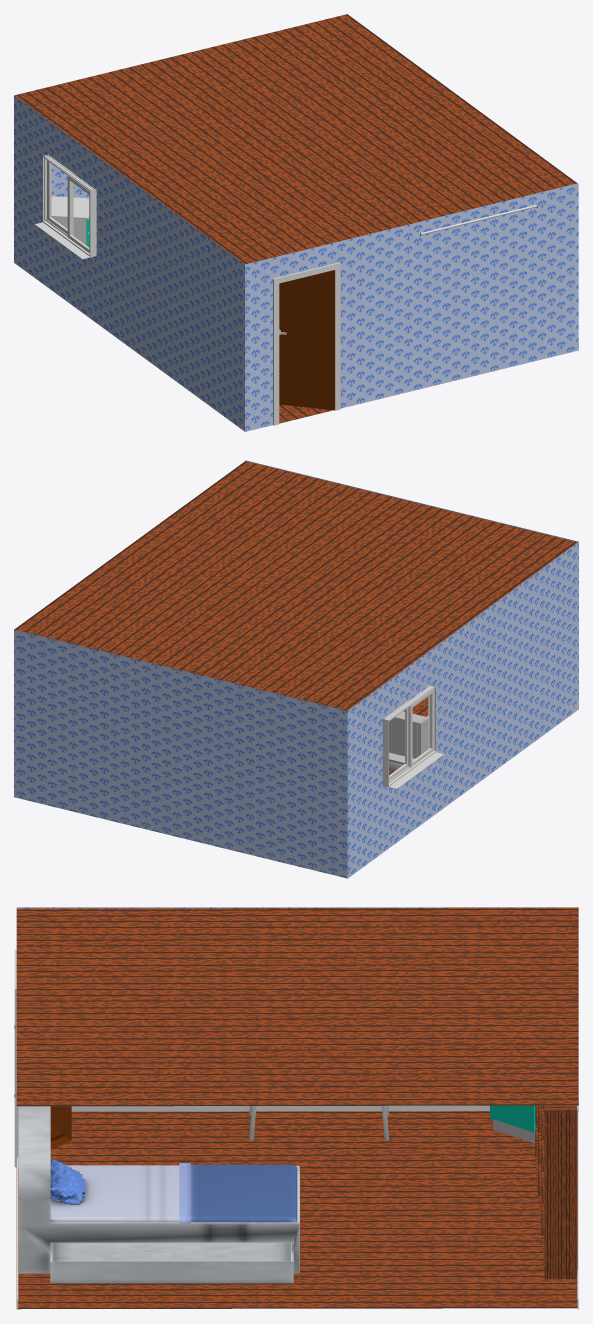
The model's file is mc_room.fbx.
3 views of the same model, one above another, from view 1: azimuth 30°, elevation 25°; view 2: azimuth 150°, elevation 25°; view 3: azimuth 270°, elevation 25° (orthographic). The views are drawn at different scales.
Parts seen in each view (by area): view 1: Room, floor, Door, DoorFrame, WindowFrame, Cabinet1, Window.L; view 2: Room, floor, WindowFrame, Cube.001, Window.L, Baseboard; view 3: floor, 3d-model.006, 3d-model.004, Plane.002, Shelves1, Baseboard.002, Cabinet1_Door, Door, Room, DoorFrame.
Boxes of the visible parts, x1,y1,x2,y2 form: Room: [14, 15, 578, 431]; floor: [14, 14, 576, 423]; Door: [279, 270, 334, 410]; DoorFrame: [273, 262, 340, 425]; WindowFrame: [42, 154, 96, 256]; Cabinet1: [51, 196, 89, 244]; Window.L: [67, 176, 89, 253]; Room: [14, 460, 578, 878]; floor: [14, 461, 577, 774]; WindowFrame: [382, 684, 436, 786]; Cube.001: [389, 711, 428, 758]; Window.L: [408, 689, 433, 767]; Baseboard: [14, 792, 346, 877]; floor: [16, 907, 578, 1309]; 3d-model.006: [18, 1106, 299, 1283]; 3d-model.004: [50, 1159, 179, 1222]; Plane.002: [179, 1163, 297, 1223]; Shelves1: [535, 1105, 577, 1279]; Baseboard.002: [71, 1101, 578, 1111]; Cabinet1_Door: [490, 1105, 535, 1132]; Door: [50, 1106, 71, 1149]; Room: [16, 907, 578, 908]; DoorFrame: [14, 949, 18, 1167].
Size of the model in its own units: 522 by 240 by 603.
